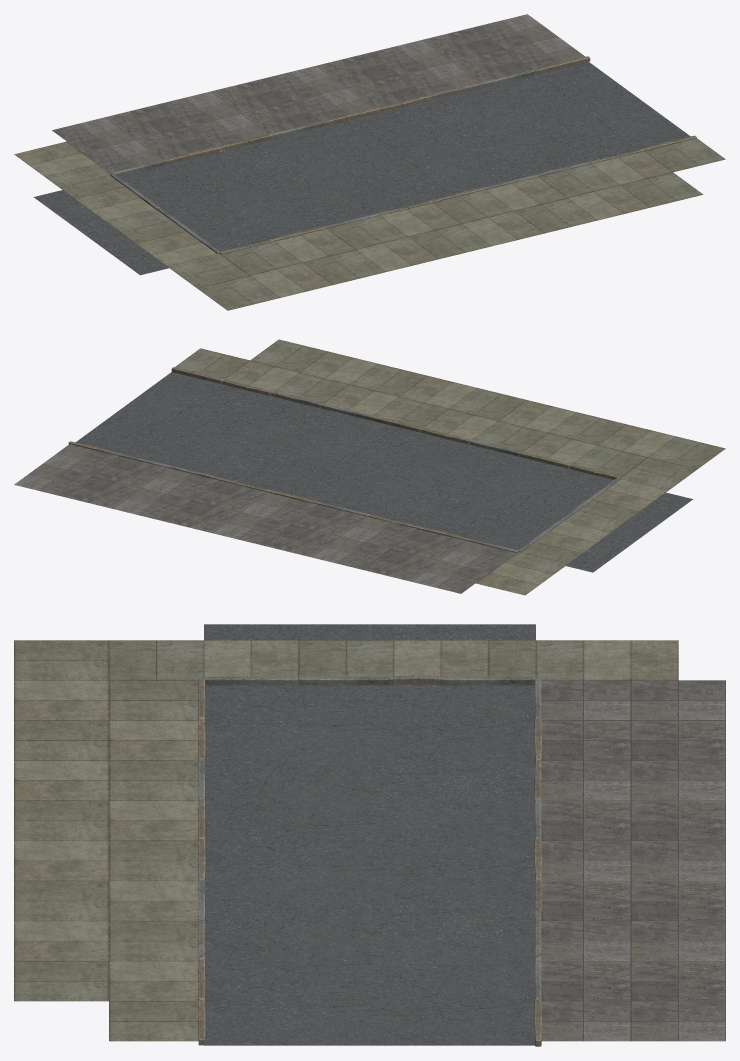
3 renders of one model, top to bottom at view 1: azimuth 30°, elevation 25°; view 2: azimuth 150°, elevation 25°; view 3: azimuth 270°, elevation 25°, orthographic. The views are drawn at different scales.
Visible parts, largest first — view 1: Optimized_Scene_05_LOD0; view 2: Optimized_Scene_05_LOD0; view 3: Optimized_Scene_05_LOD0.
Boxes of the visible parts, bbox=[...] form: Optimized_Scene_05_LOD0: bbox=[14, 14, 725, 310]; Optimized_Scene_05_LOD0: bbox=[14, 339, 725, 595]; Optimized_Scene_05_LOD0: bbox=[14, 624, 725, 1046].
Size of what is drawn, in the model's own units: 2106 by 19.08 by 1500.
